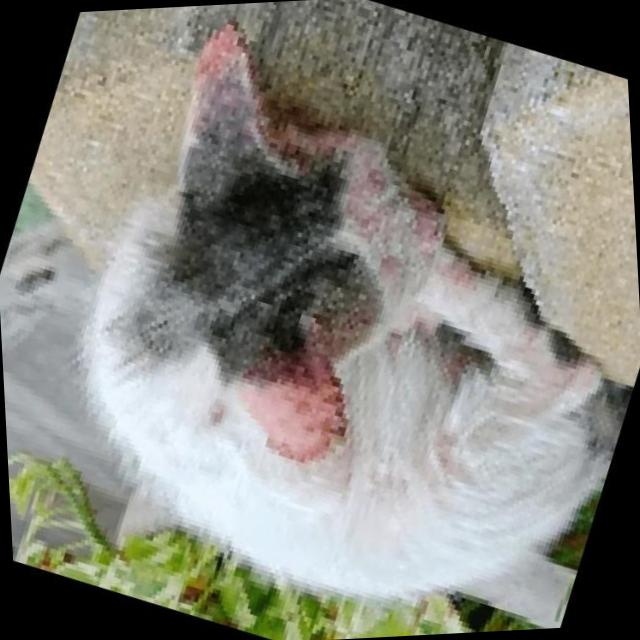Mange: (231, 356, 351, 460), (304, 288, 394, 380), (254, 105, 348, 192), (186, 8, 269, 100), (353, 240, 431, 306), (350, 150, 414, 215)
